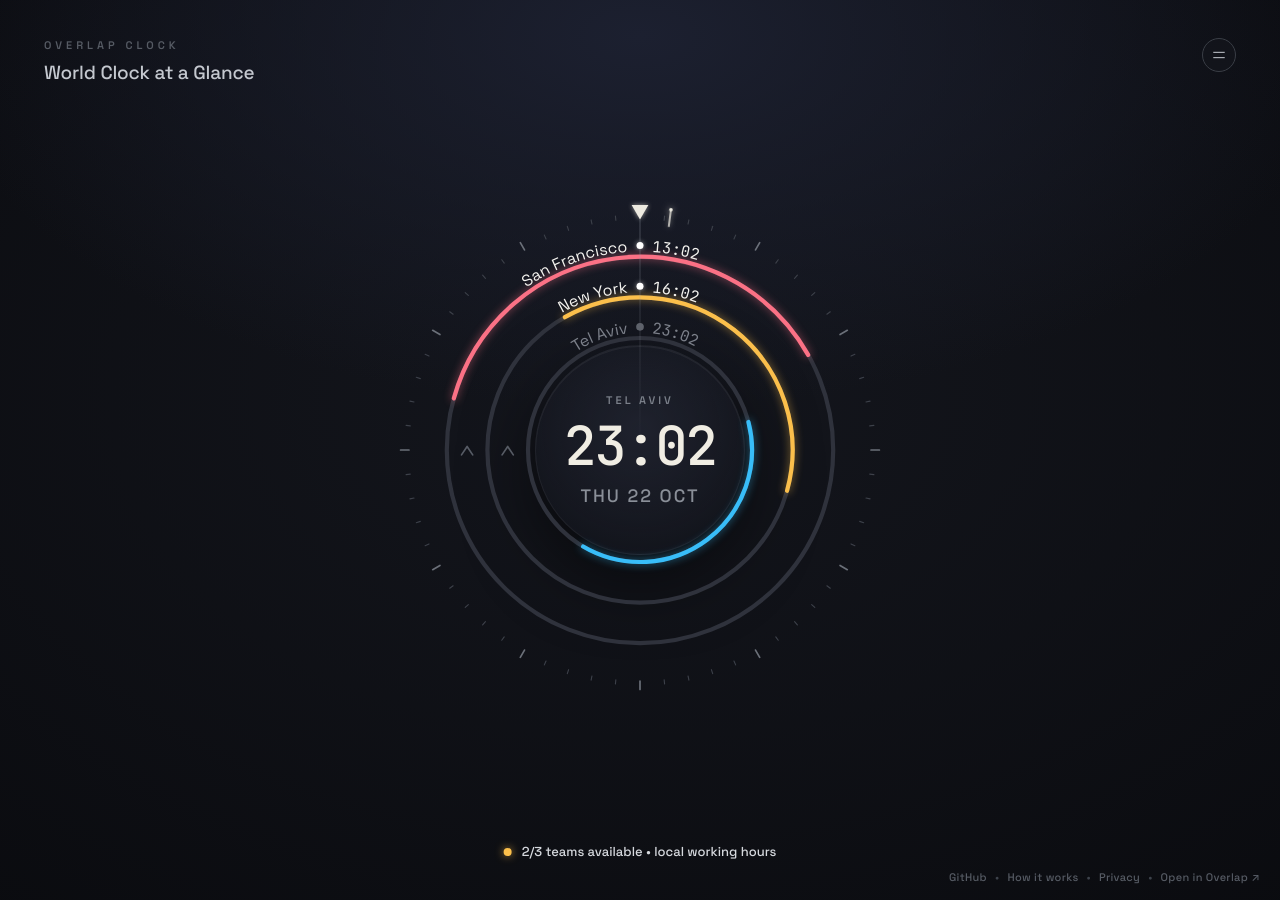
Test: PopupApp — sharing links to the web app, never to chrome-extension:// › copies an overlapclock.com link carrying the current config
Click the button with test id "control-menu-toggle" at x=1219, y=55, box [1202,38,1236,72]
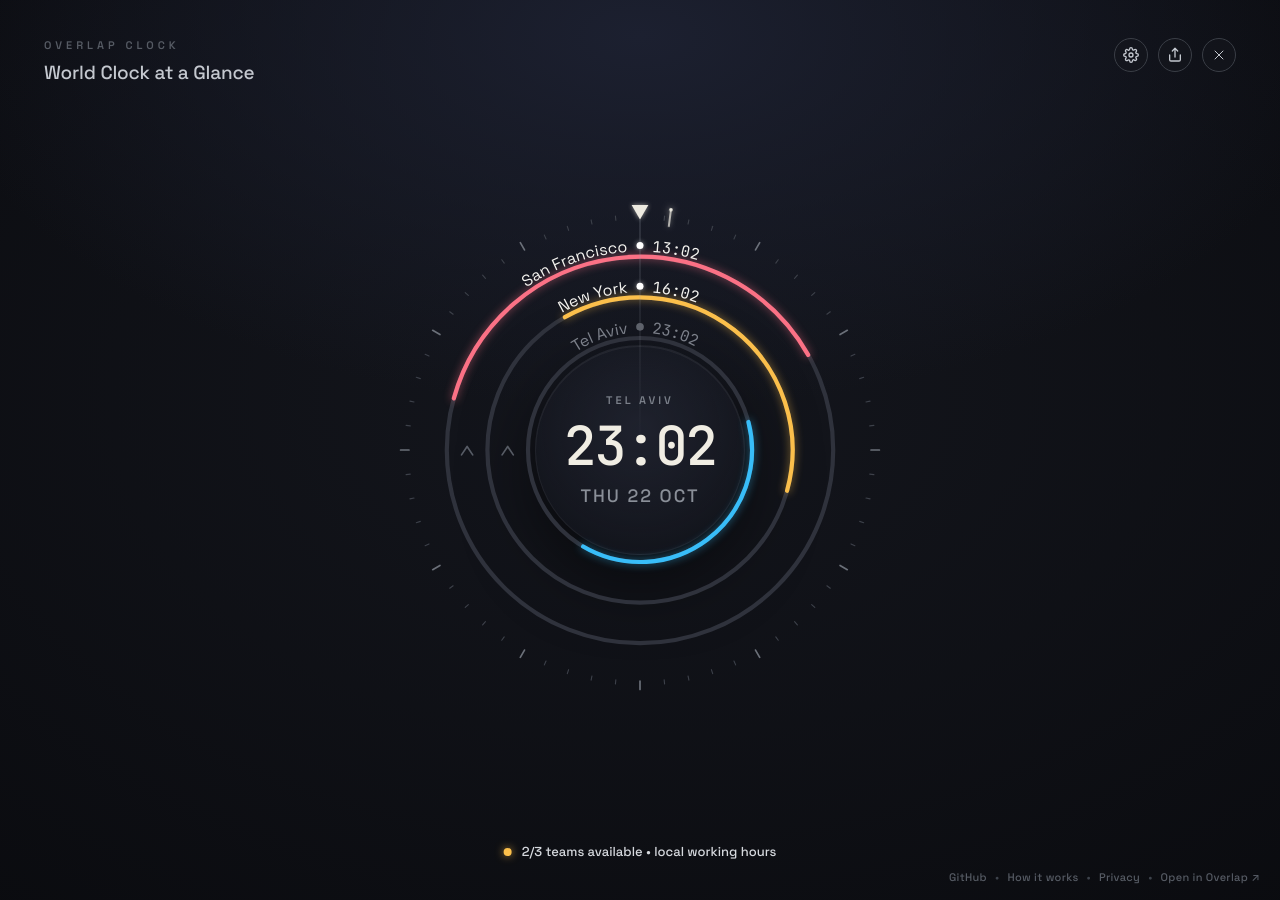
Click the button with test id "control-share-button" at x=1175, y=55, box [1158,38,1192,72]
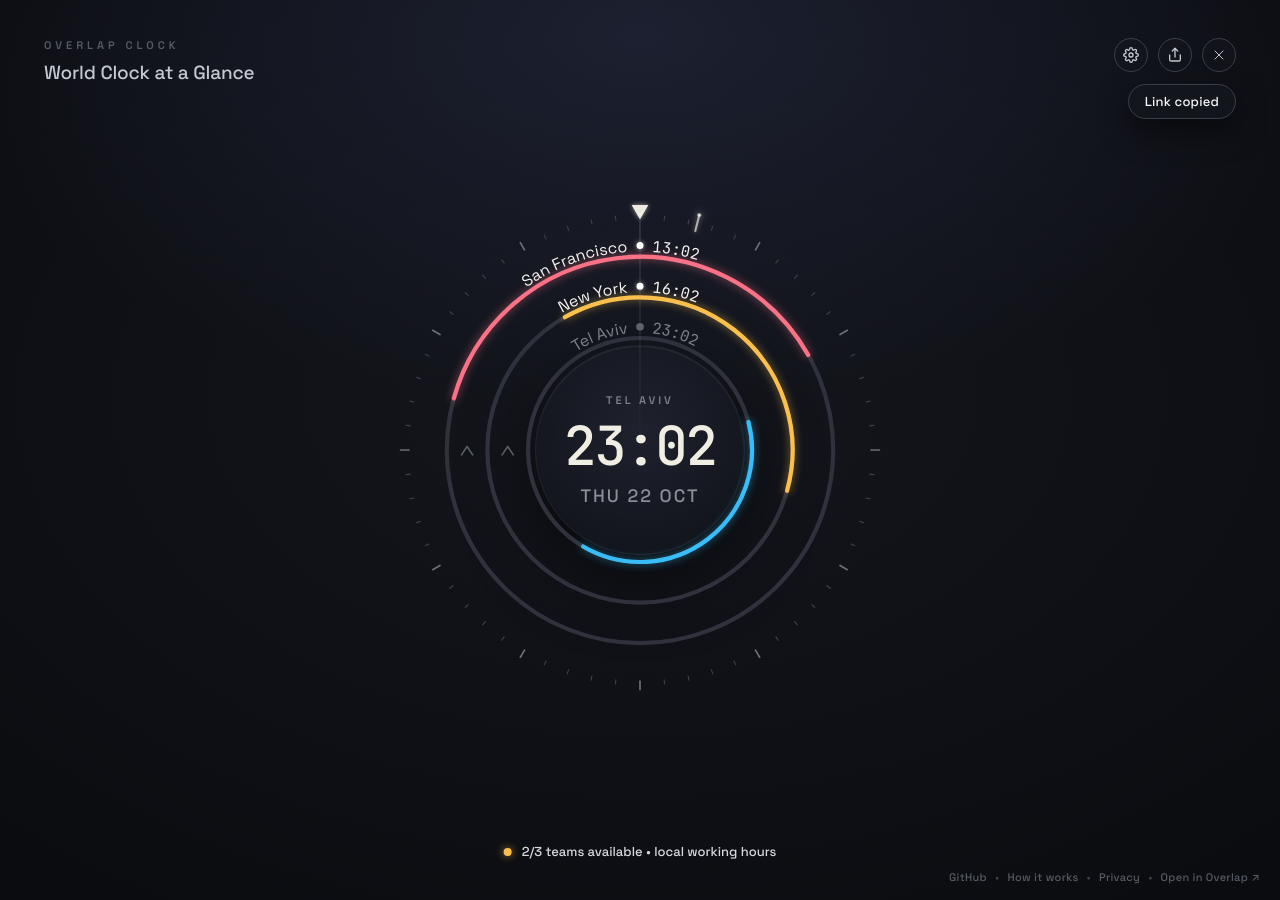
Expected: the message "Link copied" is shown, [1128,84,1236,119]
